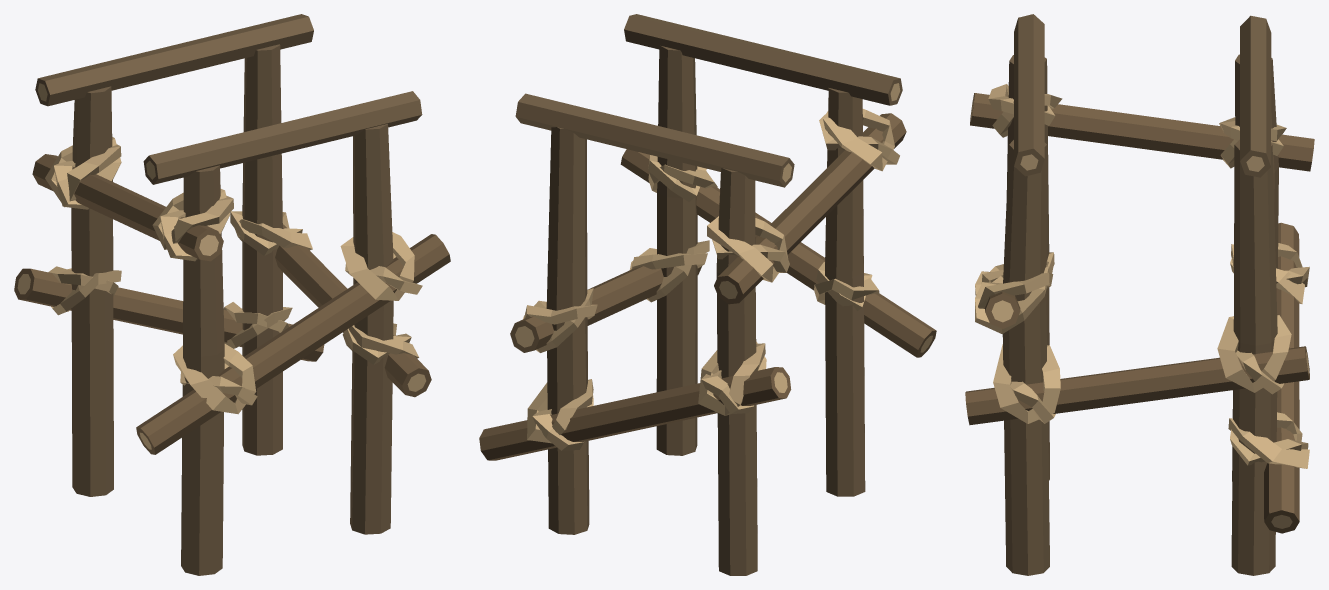
Rendered from rpgpp_ag_wall_platform_03_support_01b_4m.fbx.
3 renders of one model, left to right at view 1: azimuth 30°, elevation 25°; view 2: azimuth 150°, elevation 25°; view 3: azimuth 270°, elevation 25°, orthographic. The views are drawn at different scales.
Visible parts, largest first — view 1: rpgpp_ag_wall_platform_03_support_01b_4m; view 2: rpgpp_ag_wall_platform_03_support_01b_4m; view 3: rpgpp_ag_wall_platform_03_support_01b_4m.
Boxes of the visible parts, bbox=[...] form: rpgpp_ag_wall_platform_03_support_01b_4m: bbox=[14, 14, 450, 575]; rpgpp_ag_wall_platform_03_support_01b_4m: bbox=[479, 14, 936, 575]; rpgpp_ag_wall_platform_03_support_01b_4m: bbox=[965, 14, 1314, 575].
Bounding box in the file's own units: 3.04 × 3.9 × 2.8.
